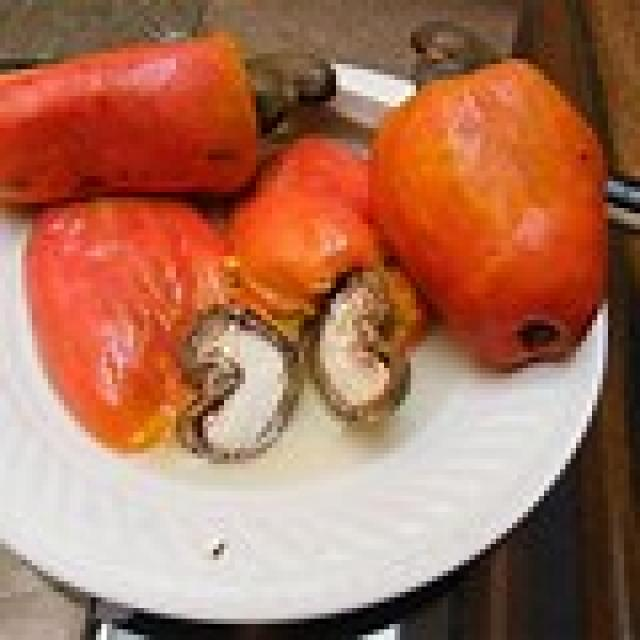Cashew: (316, 272, 440, 444), (193, 301, 295, 484), (257, 10, 336, 149), (413, 14, 499, 83)
